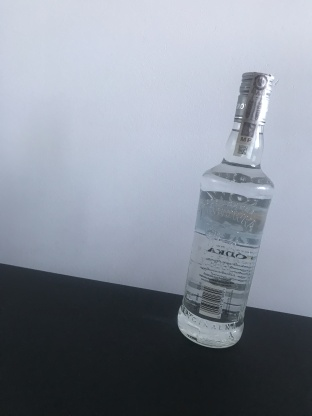nakretka: (231, 66, 276, 128)
